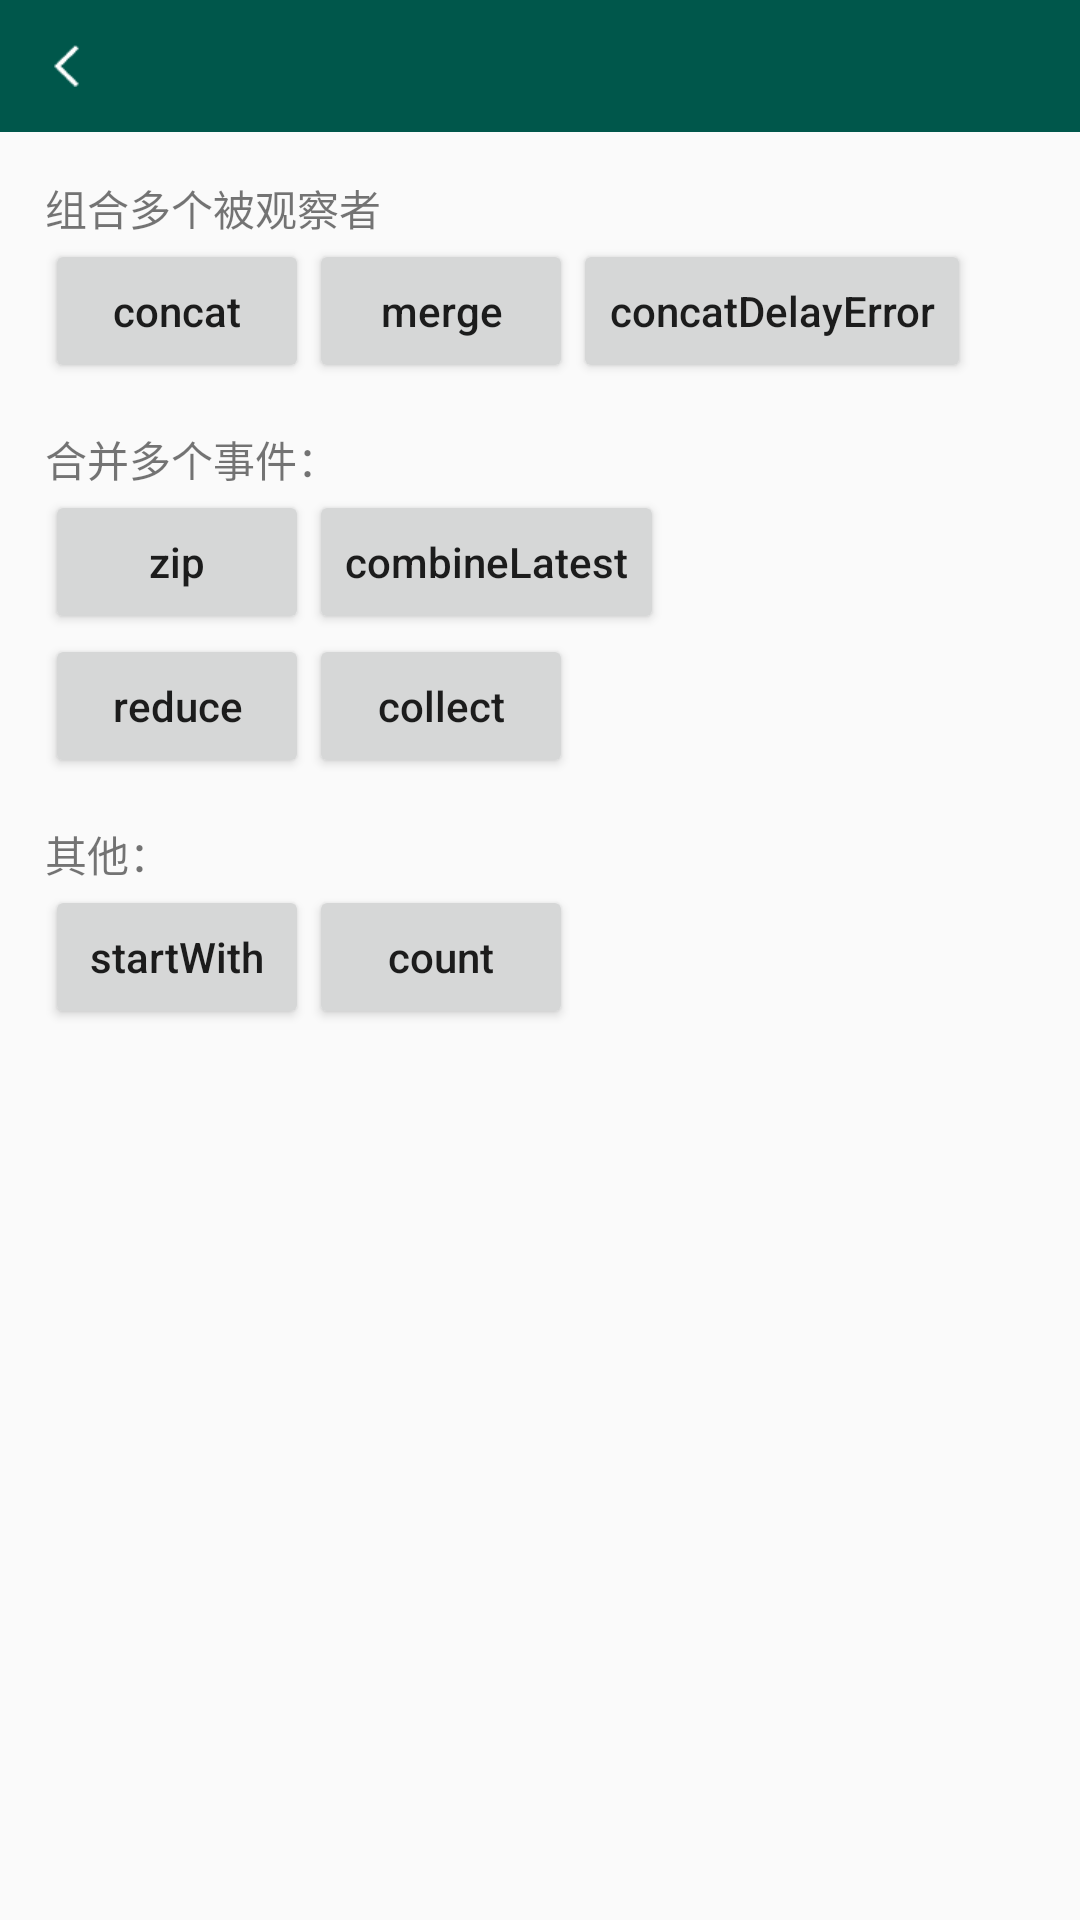

Where icons sit on this 1080×1920 app screen, as (x1, y1, x2, y2):
back: (54, 45, 79, 87)
